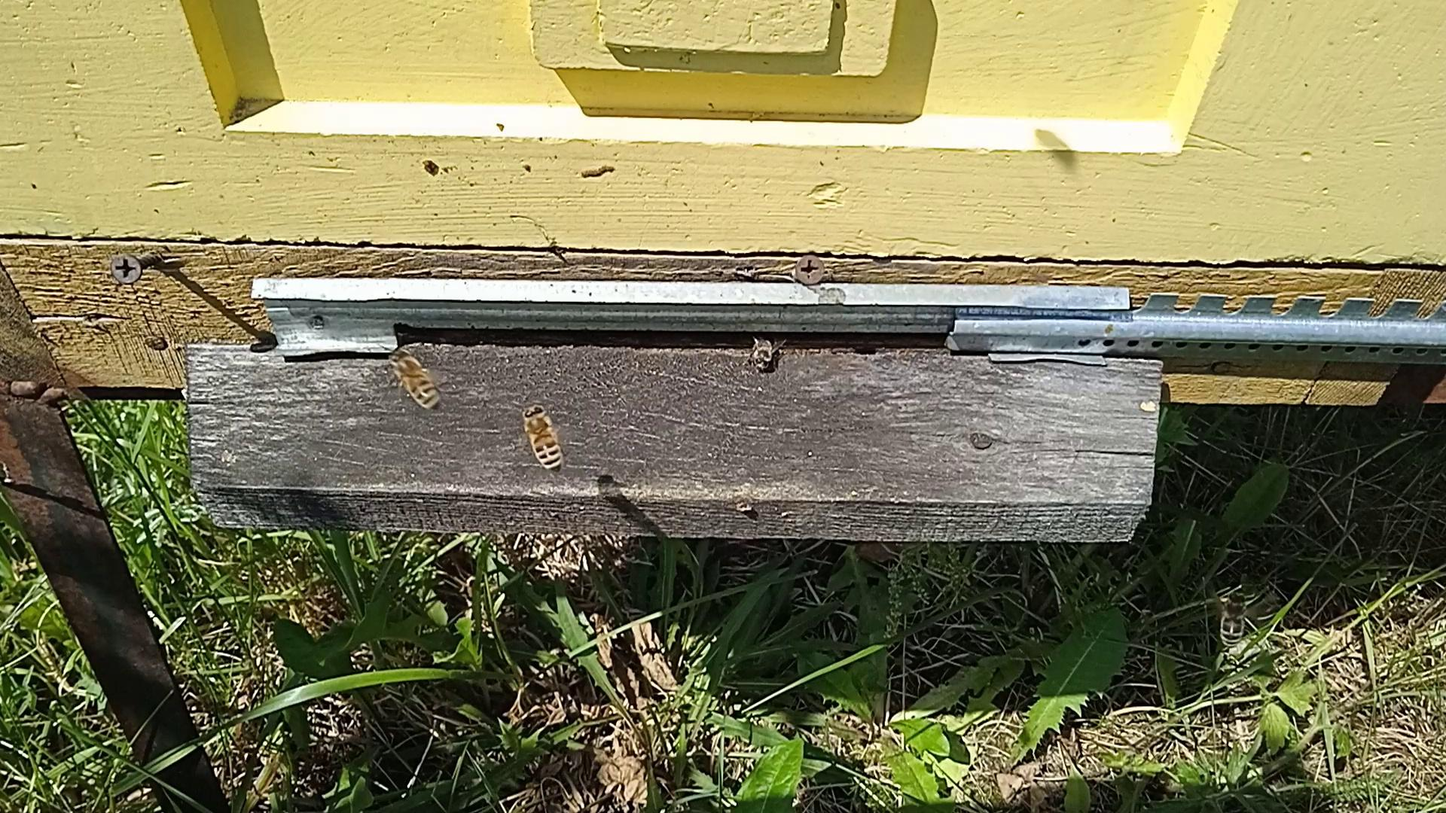worker-bee: (388, 346, 442, 411), (522, 403, 565, 473), (1220, 593, 1248, 648), (747, 333, 778, 373)
